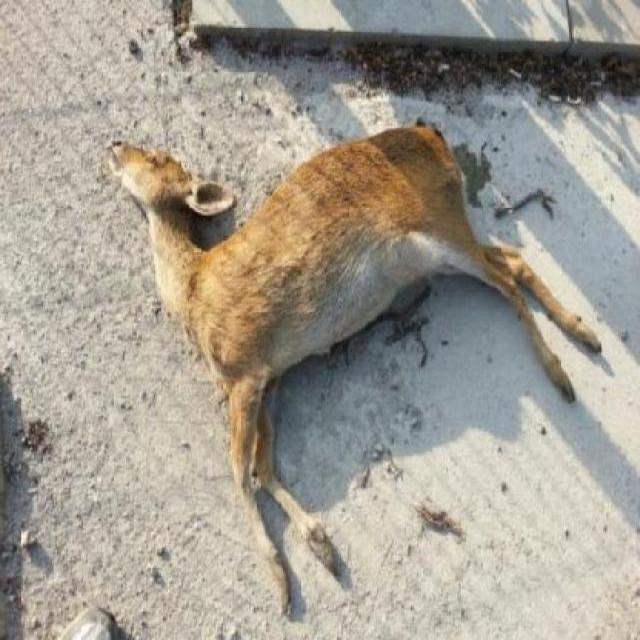deer: (106, 99, 603, 618)
